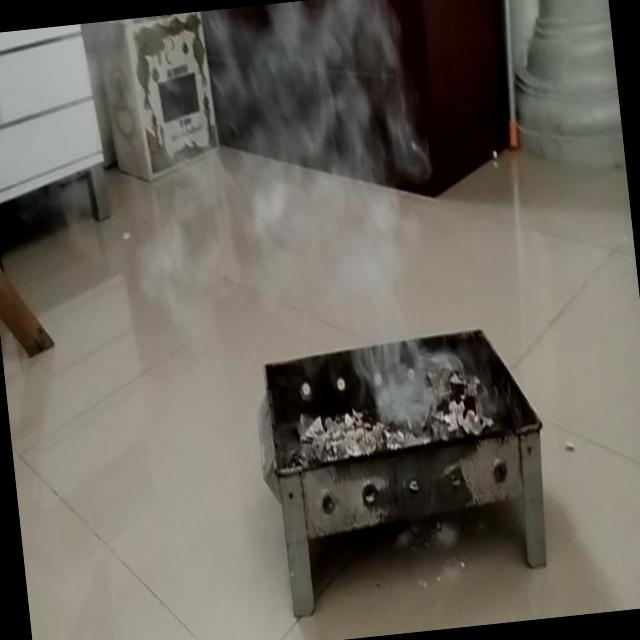smoke: (209, 22, 434, 400)
